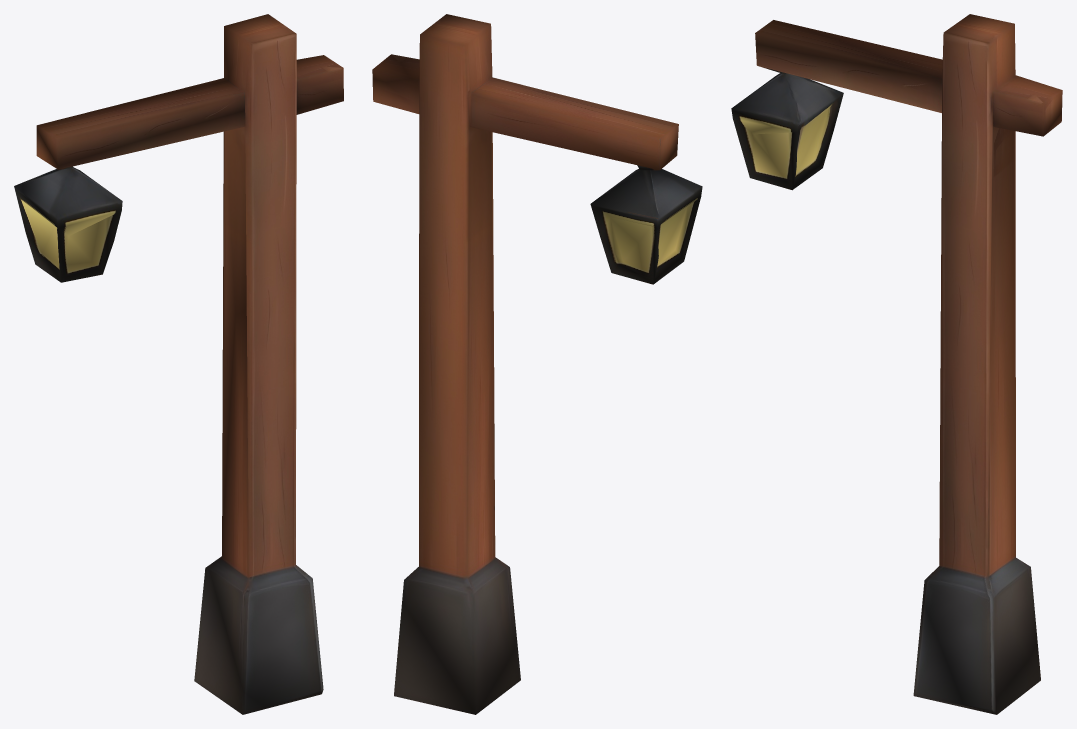
File: road_light.glb
The picture shows the model from 3 angles, left to right: view 1: azimuth 30°, elevation 25°; view 2: azimuth 150°, elevation 25°; view 3: azimuth 330°, elevation 25°; orthographic projection.
Visible parts, largest first — view 1: tripo_node_864107c2-1d8e-45de-8d35-6ae54e34e3a4; view 2: tripo_node_864107c2-1d8e-45de-8d35-6ae54e34e3a4; view 3: tripo_node_864107c2-1d8e-45de-8d35-6ae54e34e3a4.
Part boxes in pixels (x1,y1,x2,y2): tripo_node_864107c2-1d8e-45de-8d35-6ae54e34e3a4: [14, 14, 343, 714]; tripo_node_864107c2-1d8e-45de-8d35-6ae54e34e3a4: [372, 14, 702, 714]; tripo_node_864107c2-1d8e-45de-8d35-6ae54e34e3a4: [731, 14, 1062, 714].
Bounding box in the file's own units: 0.4739 × 1 × 0.1323.
1 material, 1 textured.
